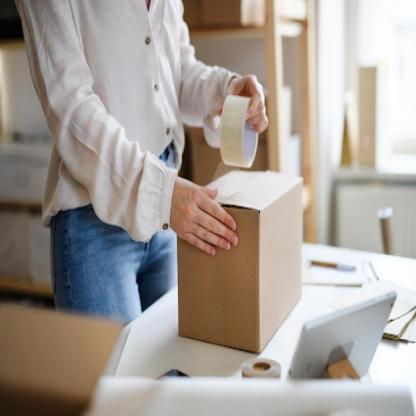-: (178, 166, 304, 355)
